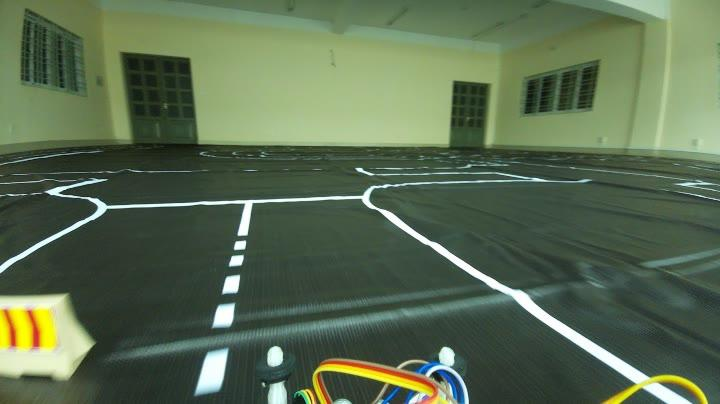roadblock: (1, 293, 90, 382)
